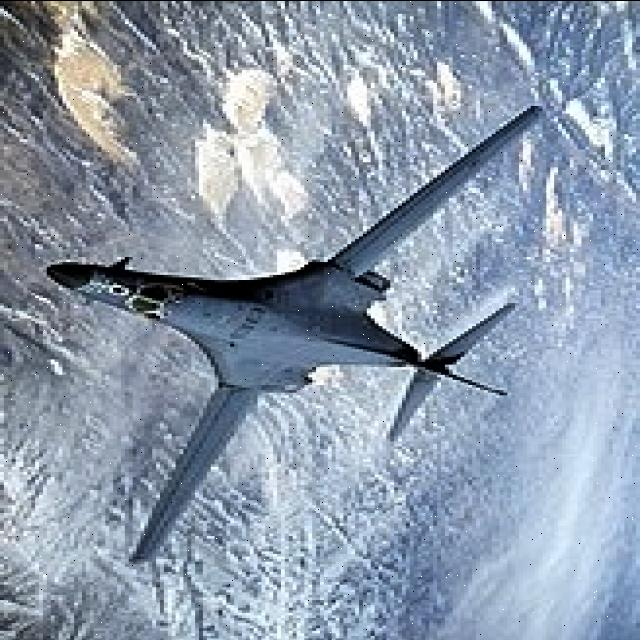B1: (28, 53, 568, 594)
